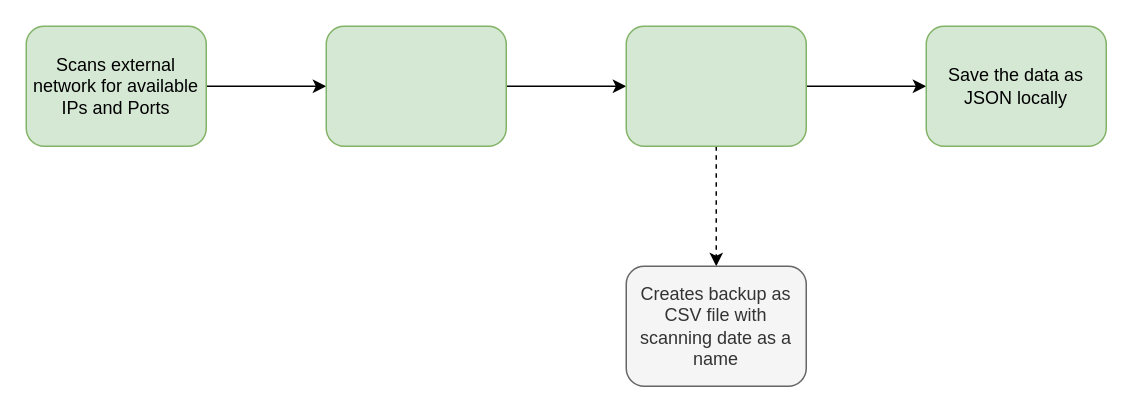
Image size: 1133x413. Some labels were removed from this diagram. The shapes that lost their labels are listed below. From the top down, each one's centre as x and y in pixels, then its label:
At (x=415, y=85): "Provides AbuseIPDB reputation for each IP".
At (x=715, y=85): "Save the data in JSON format".
